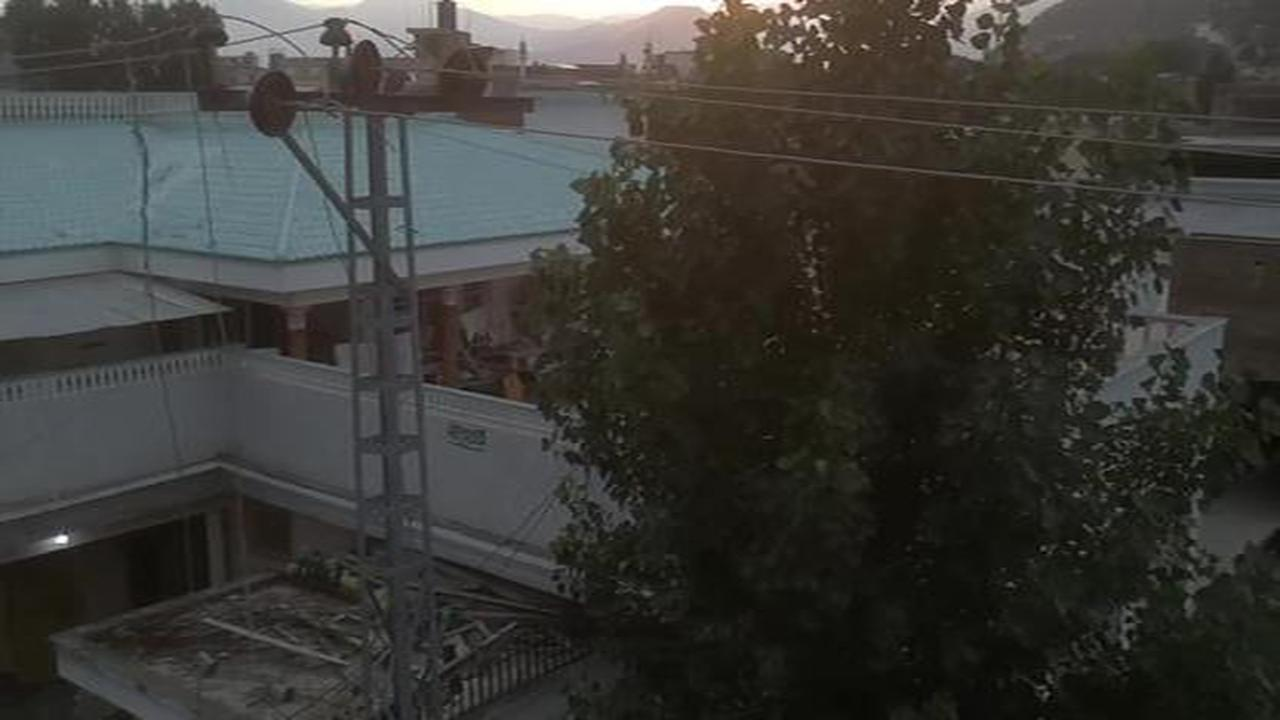insulator_disc: (243, 70, 299, 135), (435, 45, 490, 94), (349, 44, 384, 96)
insulator_pin: (319, 14, 355, 50)
